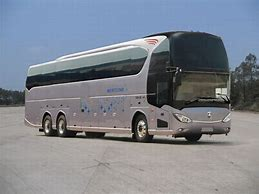bigcar: (16, 28, 234, 145)
